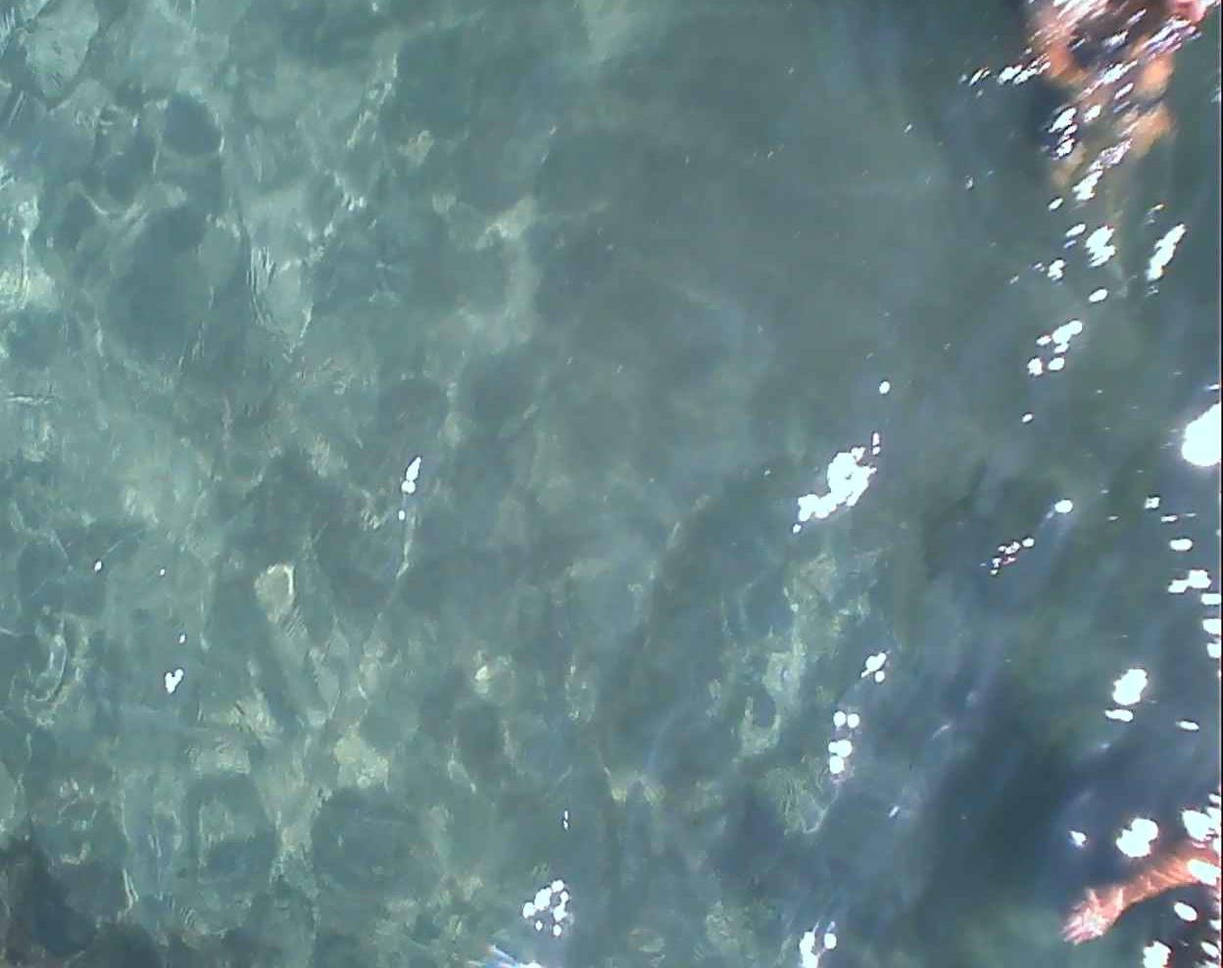swimmer: (1043, 0, 1211, 179), (1, 1, 1, 1)
